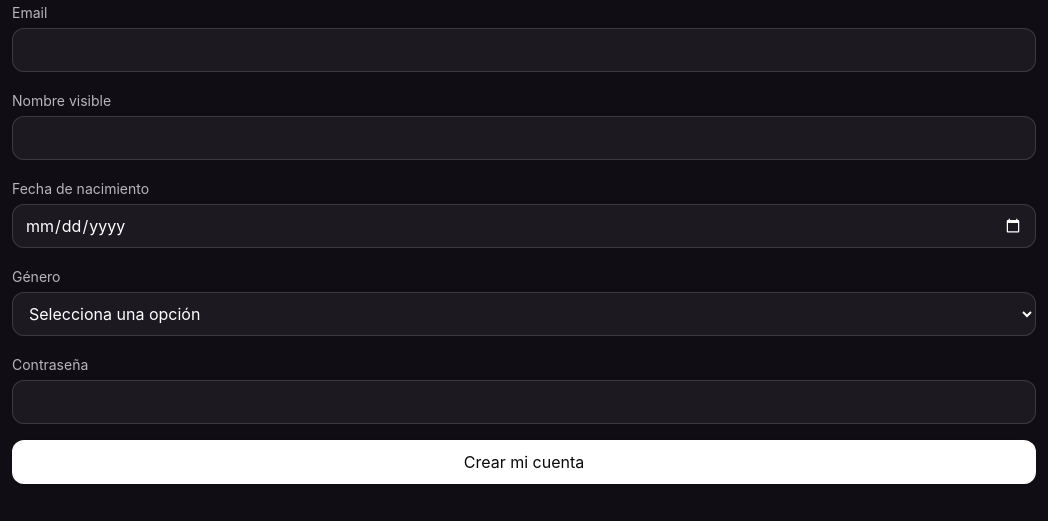
Test: RegisterForm › rejects a password shorter than the minimum policy
Type "person@example.com" into the field labelled "Email" at (524, 50), box [12,28,1036,72]
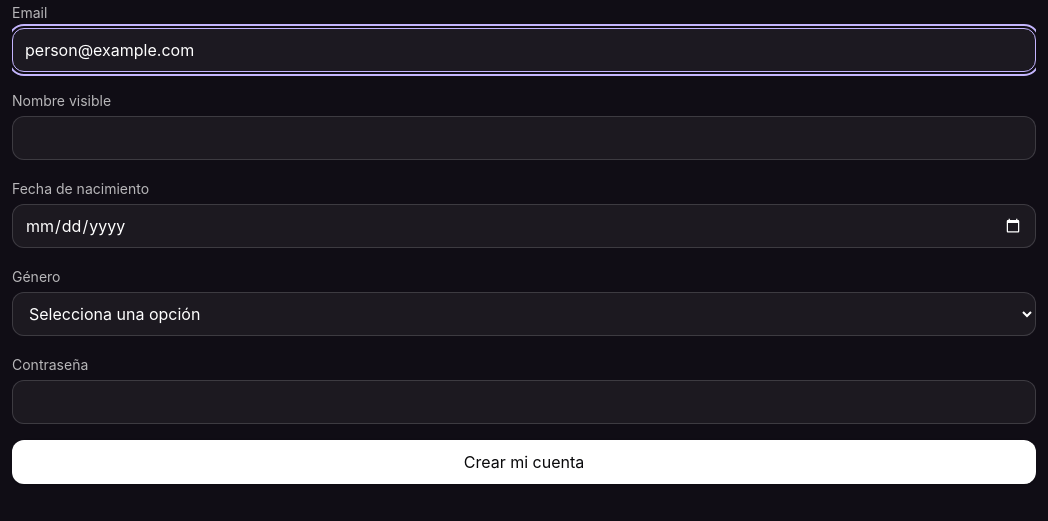
Type "Person" into the field labelled "Nombre visible" at (524, 138), box [12,116,1036,160]
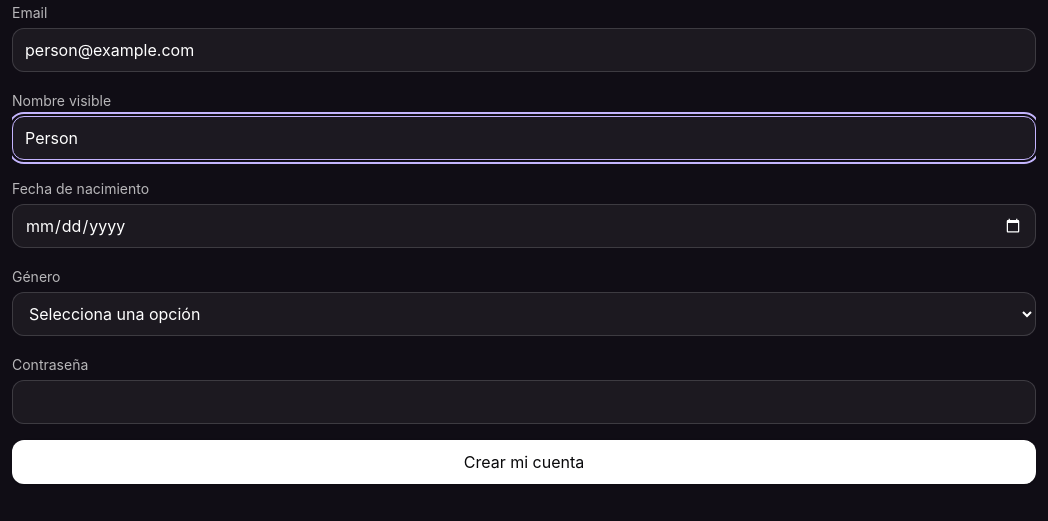
Type "1995-01-01" into the date field labelled "Fecha de nacimiento" at (524, 226), box [12,204,1036,248]
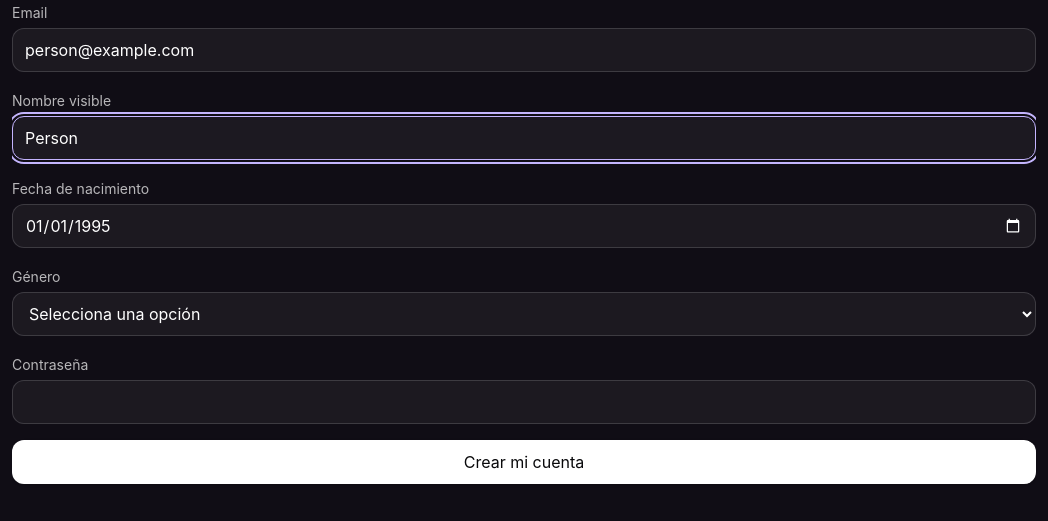
Select "Mujer" in the dropdown labelled "Género" at (524, 314), box [12,292,1036,336]
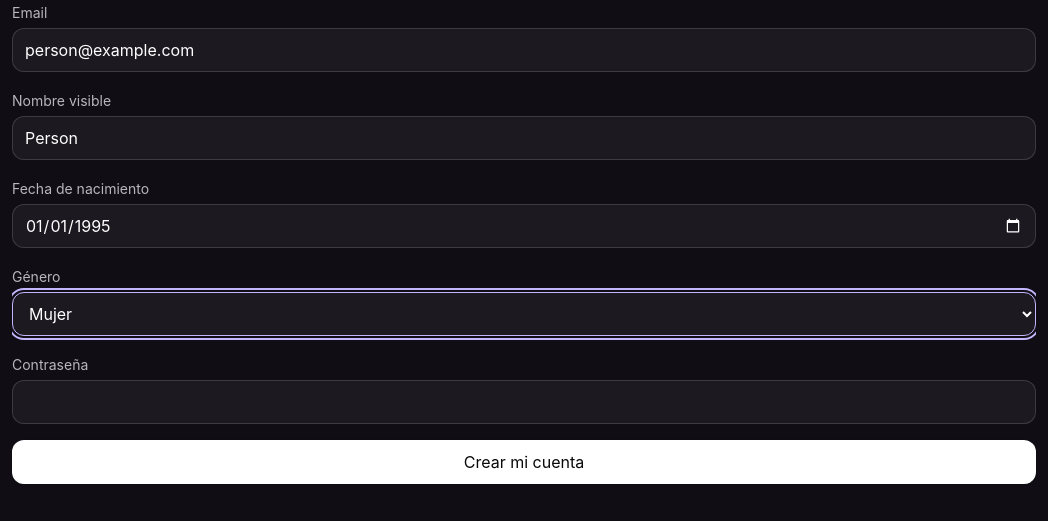
Type "short" into the password field labelled "Contraseña" at (524, 402), box [12,380,1036,424]
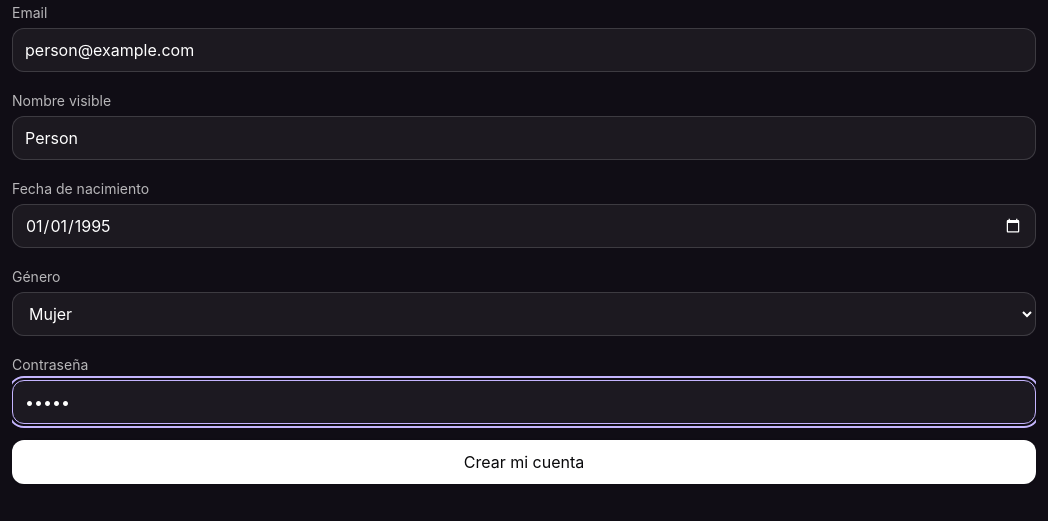
Click the button "Crear mi cuenta" at (524, 462), box [12,440,1036,484]
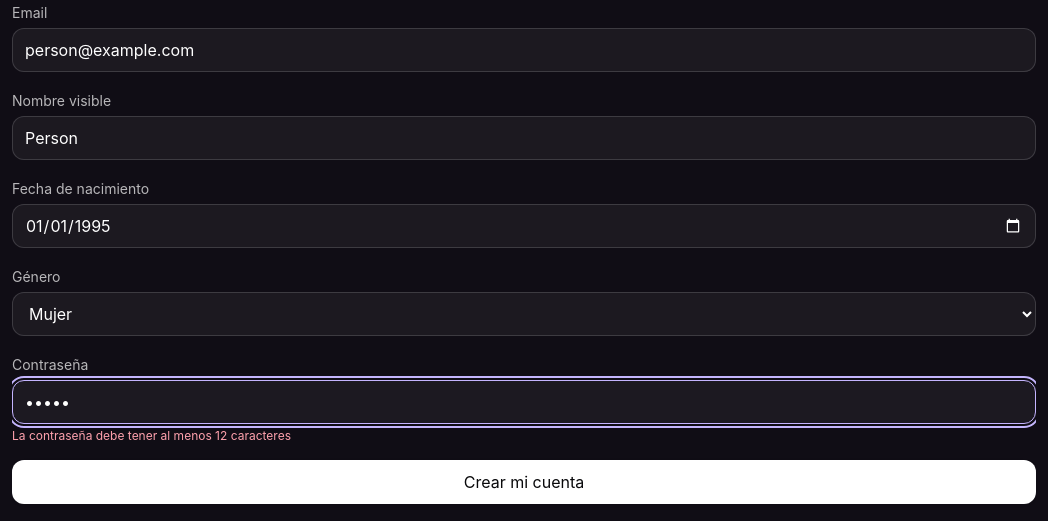
Result: the text "La contraseña debe tener al menos 12 caracteres" is shown at [12,428,291,443]
